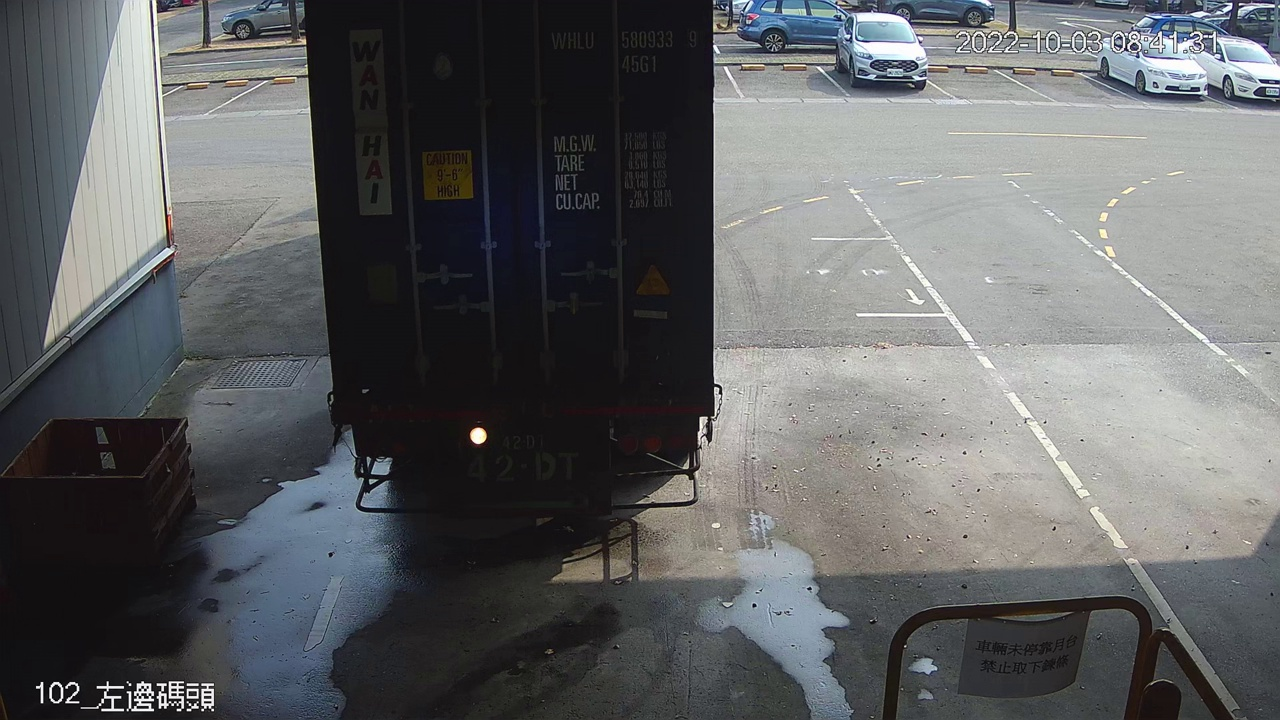container: (545, 23, 701, 79)
